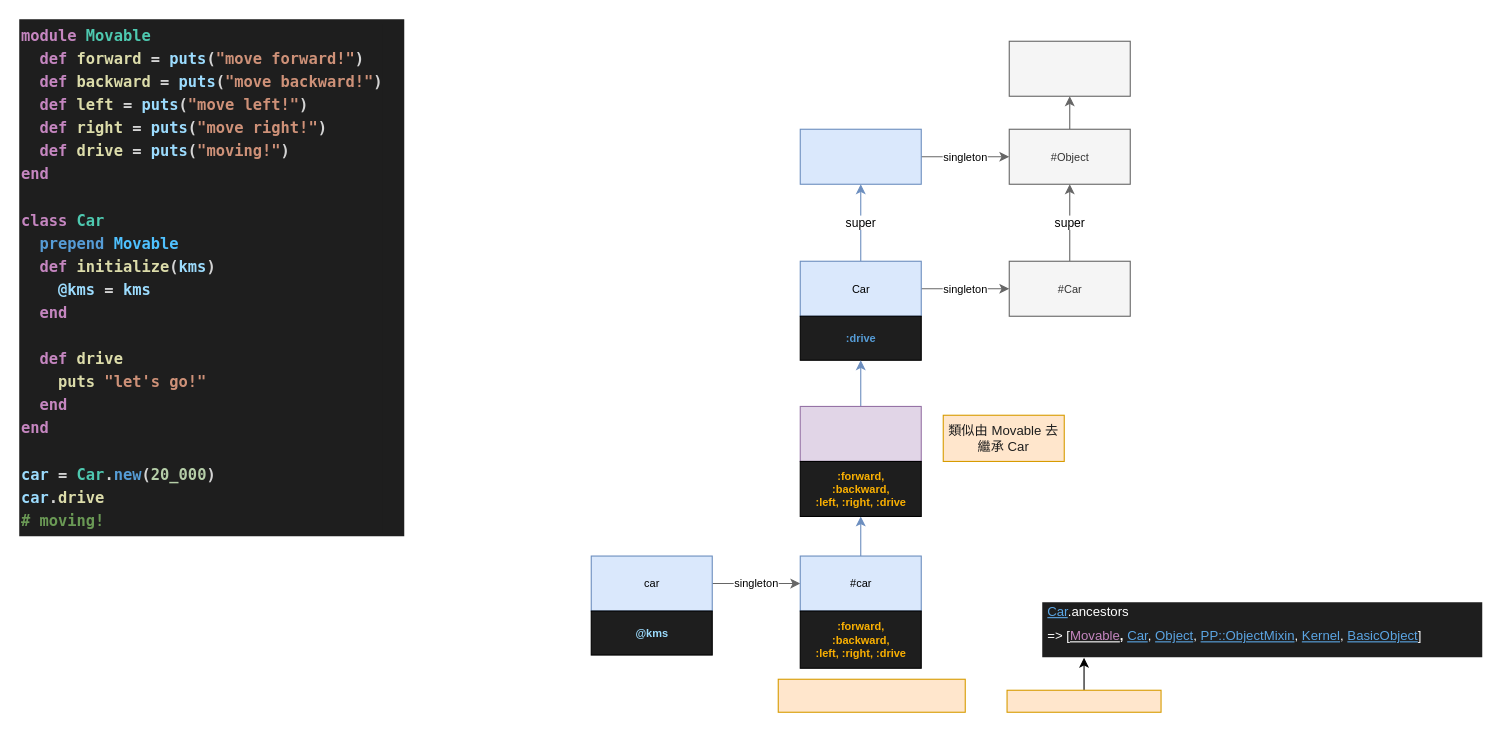
Image size: 1500x732. Some labels were removed from this diagram. Each missing label, with the box of its shape:
Class: (1008, 40, 1130, 96)
Movable: (799, 405, 921, 461)
Movable 繼承鏈下方。: (1006, 689, 1161, 712)
Movable 被放在鏈最下面，所以 會複寫 drive。: (777, 678, 965, 712)
Object: (799, 128, 921, 184)
